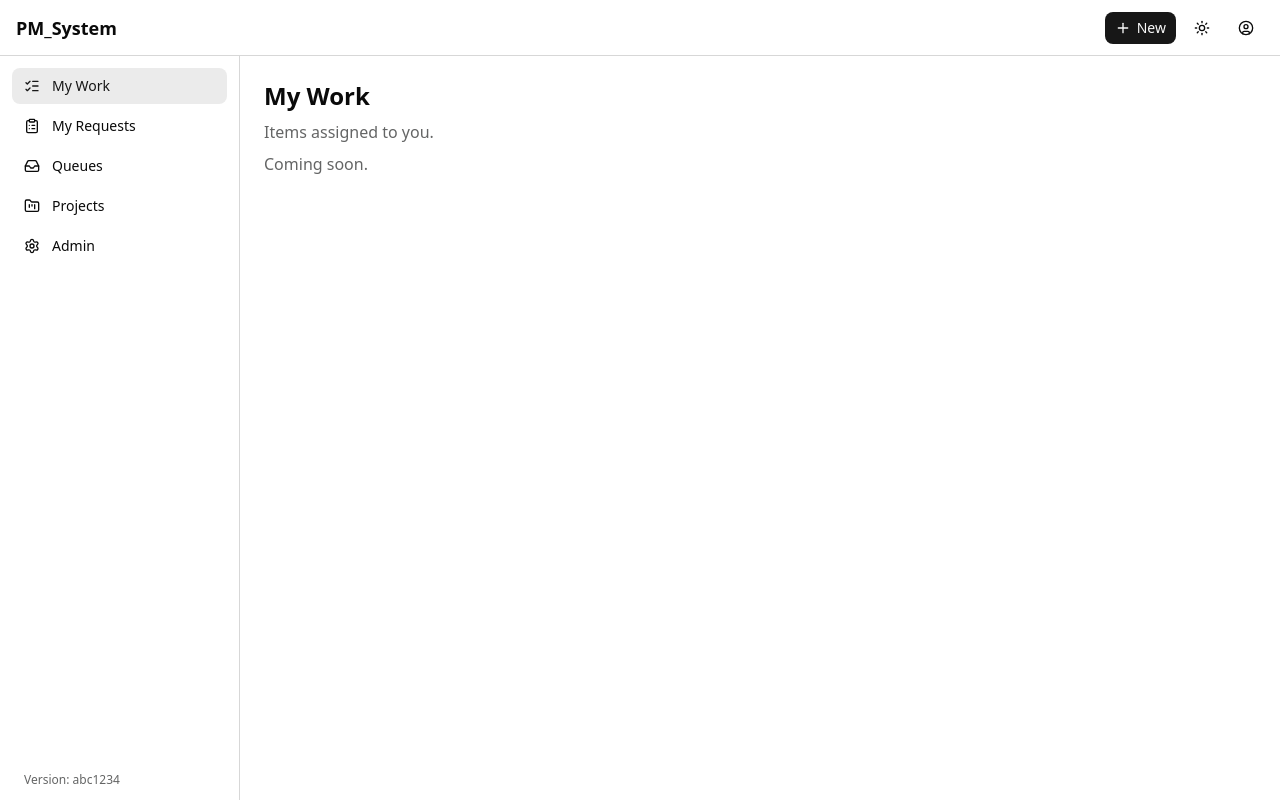
it: theme switcher › offers Light, Dark, and Match system, starting on Match system
The image size is (1280, 800).
Click the button named "Theme" at point(1202, 28), box [1184,10,1220,46]
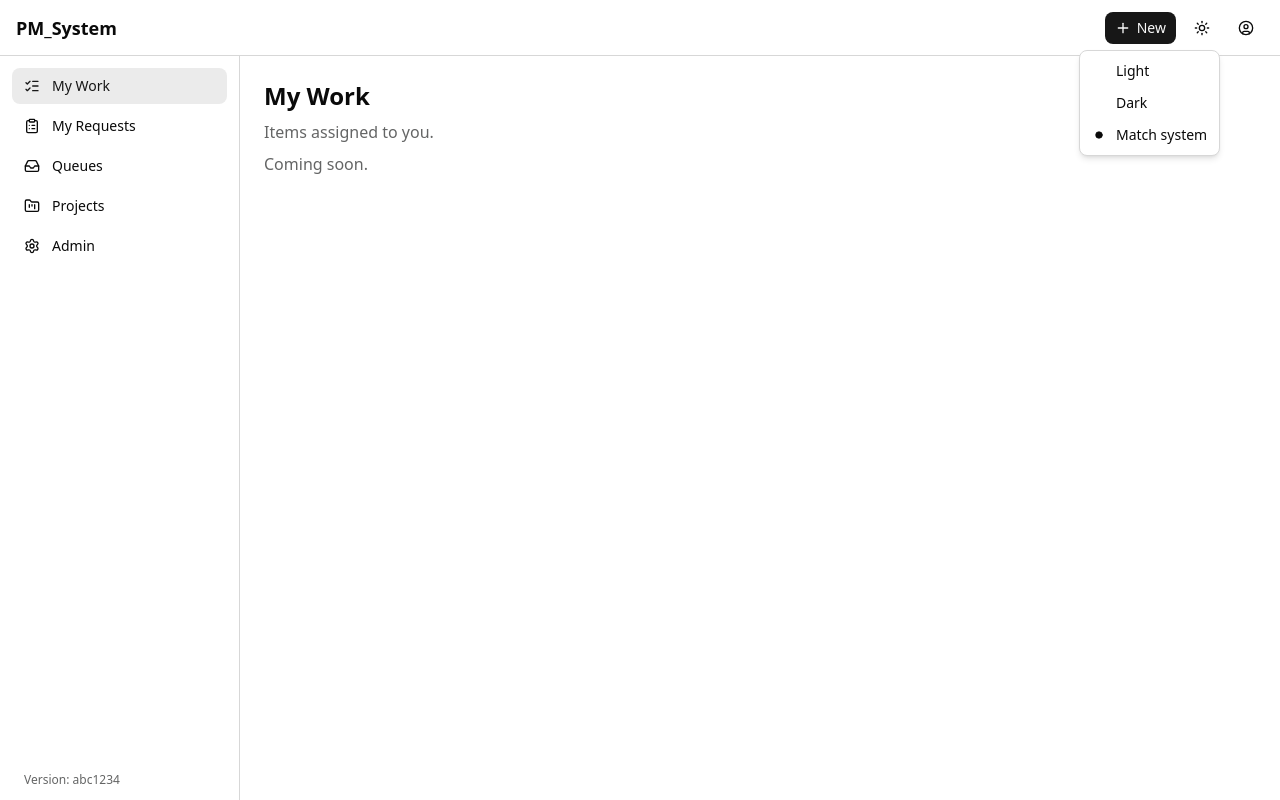
Expected: the menu item "Match system" is checked, [1095,125,1207,144]
Expected: the menu item "Light" is not checked, [1116,61,1149,80]
Expected: the menu item "Dark" is not checked, [1116,93,1147,112]
